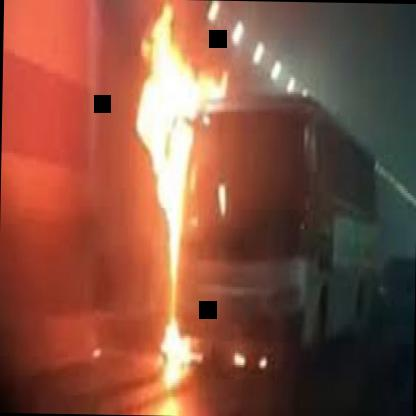fire: (125, 8, 246, 362)
